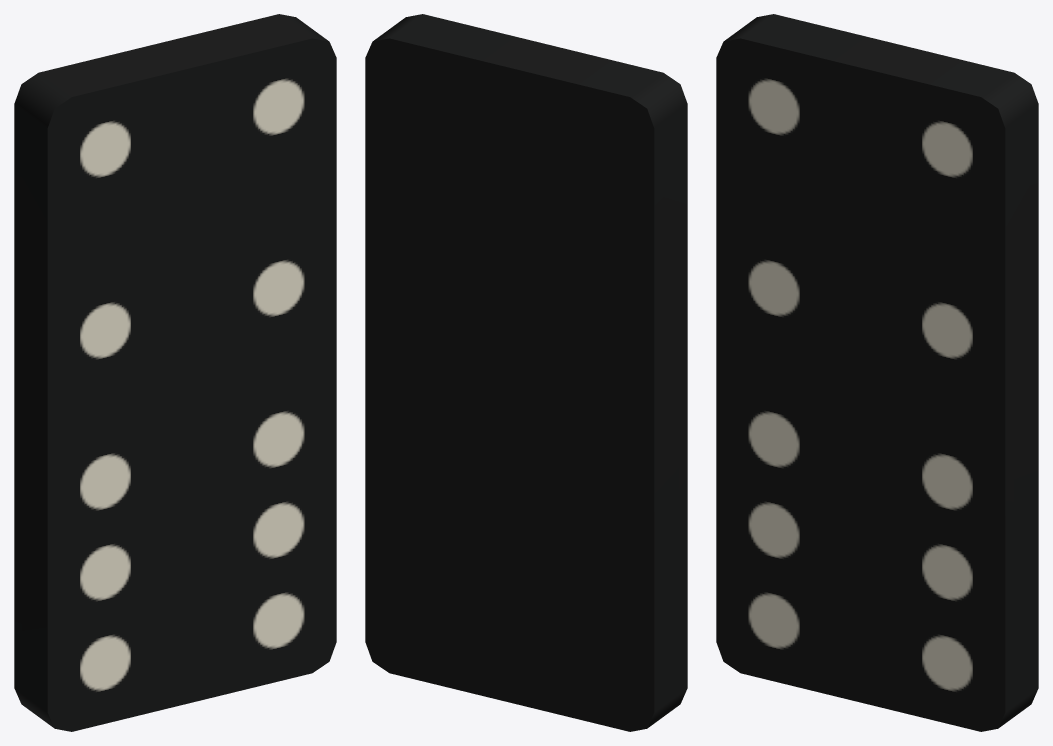
3 views of the same model, side by side, from view 1: azimuth 30°, elevation 25°; view 2: azimuth 150°, elevation 25°; view 3: azimuth 330°, elevation 25° (orthographic).
Parts seen in each view (by area): view 1: domino_low_46; view 2: domino_low_46; view 3: domino_low_46.
Boxes of the visible parts, box(x1,y1,x2,y2) form: domino_low_46: box(14, 14, 336, 731); domino_low_46: box(365, 14, 687, 731); domino_low_46: box(716, 14, 1038, 731).
Bounding box in the file's own units: 2 × 4.2 × 0.4.
